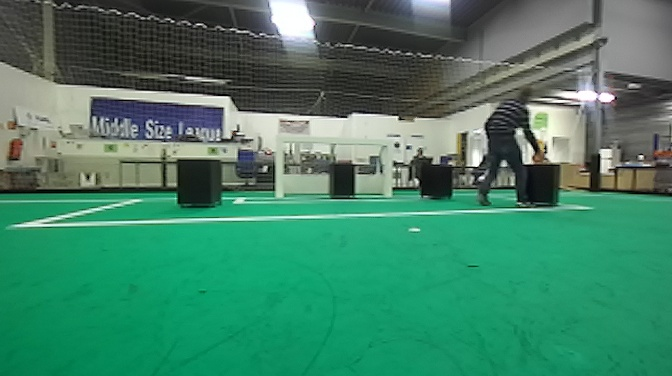goalpost: (274, 129, 287, 206), (383, 140, 398, 196)
human: (474, 80, 542, 208)
